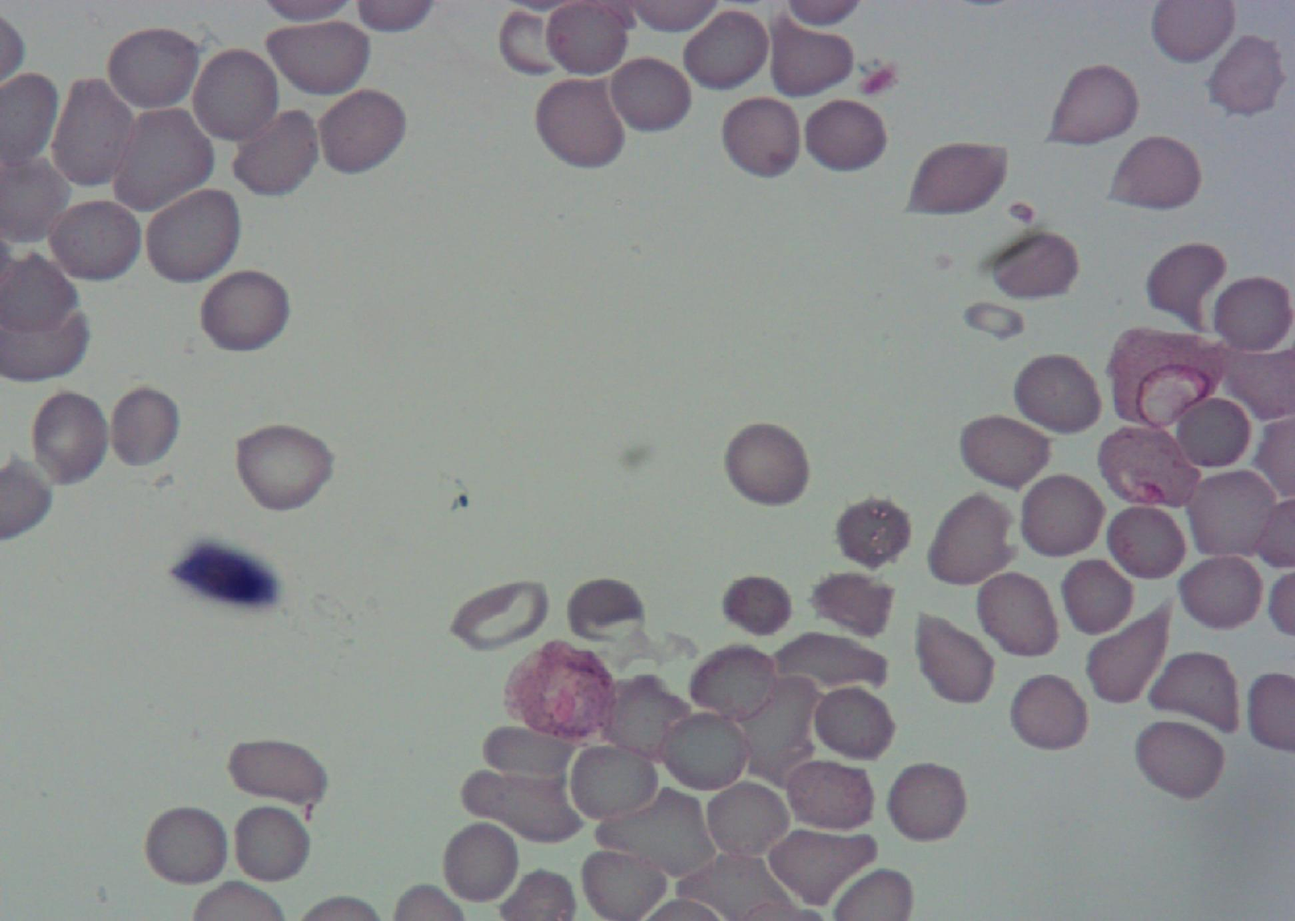Infected: (503, 639, 619, 748), (1096, 422, 1205, 511)
Uninfected: (109, 109, 215, 213), (595, 788, 713, 880), (141, 186, 241, 286), (1083, 597, 1174, 706), (50, 80, 141, 188), (230, 420, 334, 513), (765, 825, 879, 908), (463, 767, 582, 846), (532, 74, 628, 170), (189, 47, 282, 145), (927, 486, 1021, 581), (1185, 468, 1281, 561), (195, 266, 292, 355), (312, 91, 410, 178), (102, 26, 201, 112), (744, 671, 819, 784), (46, 197, 143, 284), (678, 5, 771, 95), (721, 421, 813, 510), (1049, 64, 1144, 150), (1131, 717, 1228, 801), (971, 570, 1061, 660), (232, 108, 321, 198), (1010, 352, 1103, 438), (264, 22, 370, 97), (27, 389, 109, 485), (913, 611, 995, 707), (684, 645, 786, 722), (908, 142, 1009, 218), (604, 678, 697, 760), (657, 711, 751, 792), (955, 412, 1052, 490), (1149, 652, 1240, 735), (1200, 35, 1289, 119), (576, 848, 679, 920), (603, 55, 693, 137), (764, 19, 854, 101), (719, 87, 799, 178), (1177, 552, 1266, 633), (566, 574, 650, 659), (1141, 239, 1226, 323), (439, 820, 521, 906), (1118, 130, 1204, 212), (884, 762, 969, 844), (773, 630, 887, 691), (809, 683, 895, 763), (224, 739, 323, 808), (568, 747, 663, 818), (1104, 502, 1188, 581), (801, 96, 887, 173), (147, 804, 229, 884), (106, 384, 182, 469), (704, 782, 790, 857), (1057, 557, 1136, 638), (1213, 278, 1292, 358), (991, 228, 1080, 299), (1020, 473, 1097, 555), (785, 761, 875, 829), (482, 725, 582, 786), (808, 565, 895, 635), (833, 492, 912, 569), (548, 1, 626, 78), (453, 585, 546, 649), (1007, 677, 1089, 749), (232, 806, 308, 883), (1179, 401, 1257, 467), (500, 5, 568, 77), (723, 568, 791, 636)
